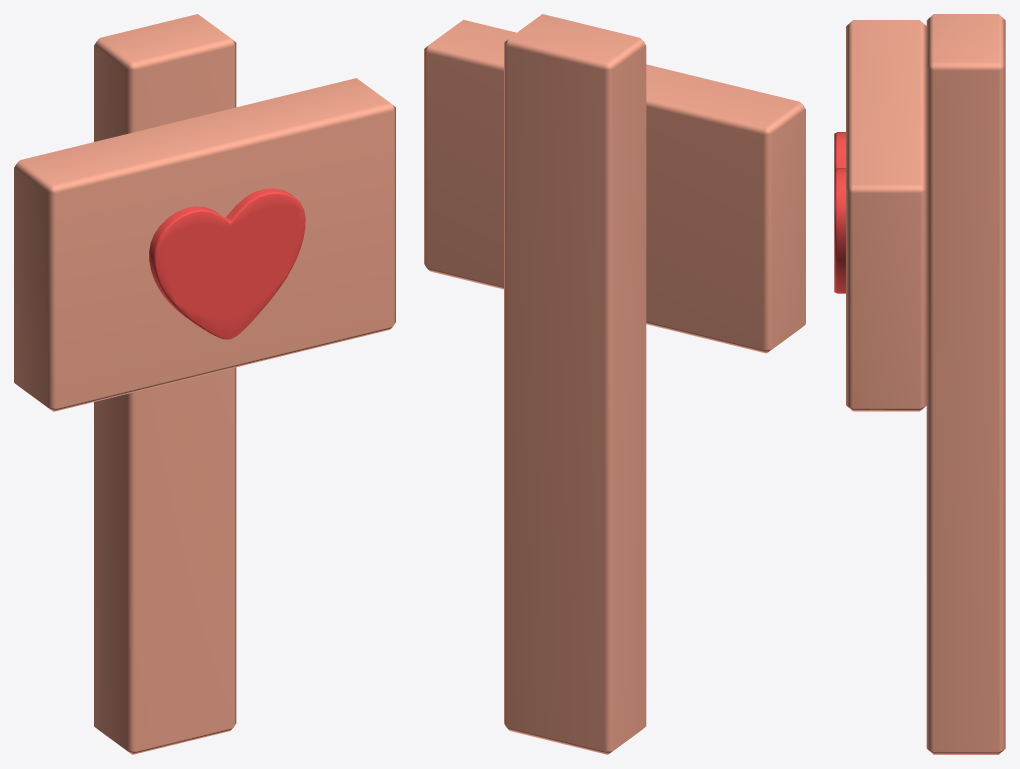
File: Town_17_Sign_1.glb
3 views of the same model, side by side, from view 1: azimuth 30°, elevation 25°; view 2: azimuth 150°, elevation 25°; view 3: azimuth 270°, elevation 25° (orthographic).
Visible parts, largest first — view 1: Town_17_Sign_1; view 2: Town_17_Sign_1; view 3: Town_17_Sign_1.
Part boxes in pixels (box(x1,y1,x2,y2)): Town_17_Sign_1: box(14, 14, 395, 754); Town_17_Sign_1: box(424, 14, 805, 754); Town_17_Sign_1: box(834, 14, 1005, 754).
Bounding box in the file's own units: 0.7487 × 1.42 × 0.3184.
Materials: 1 (1 with a texture image).
